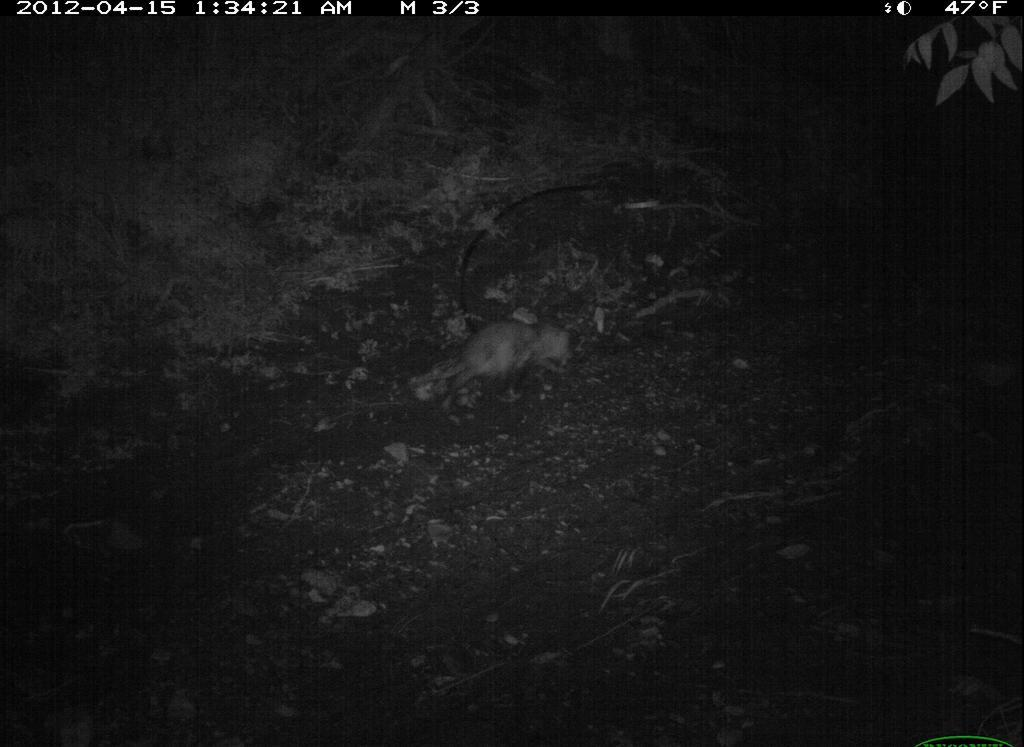opossum: (395, 283, 605, 419)
